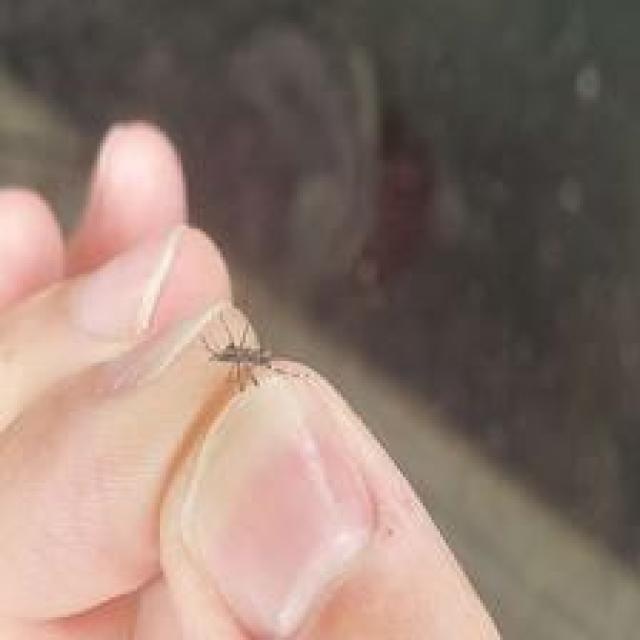Aedes albopictus: (199, 312, 310, 394)
